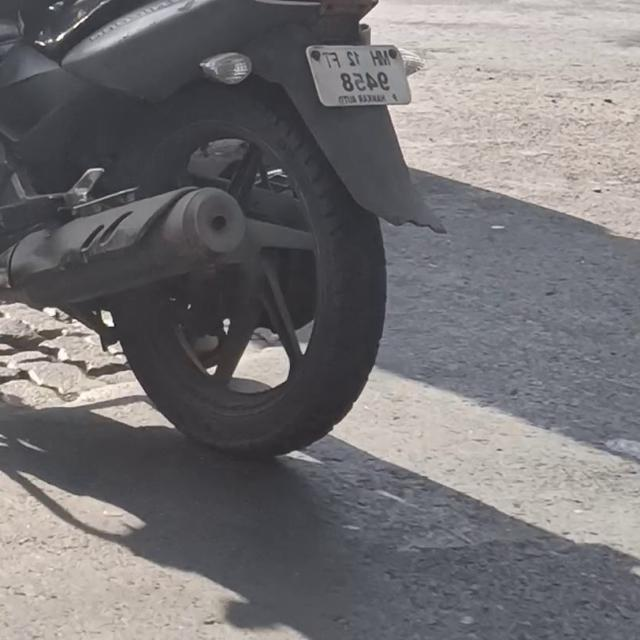license_plate: (301, 37, 416, 113)
